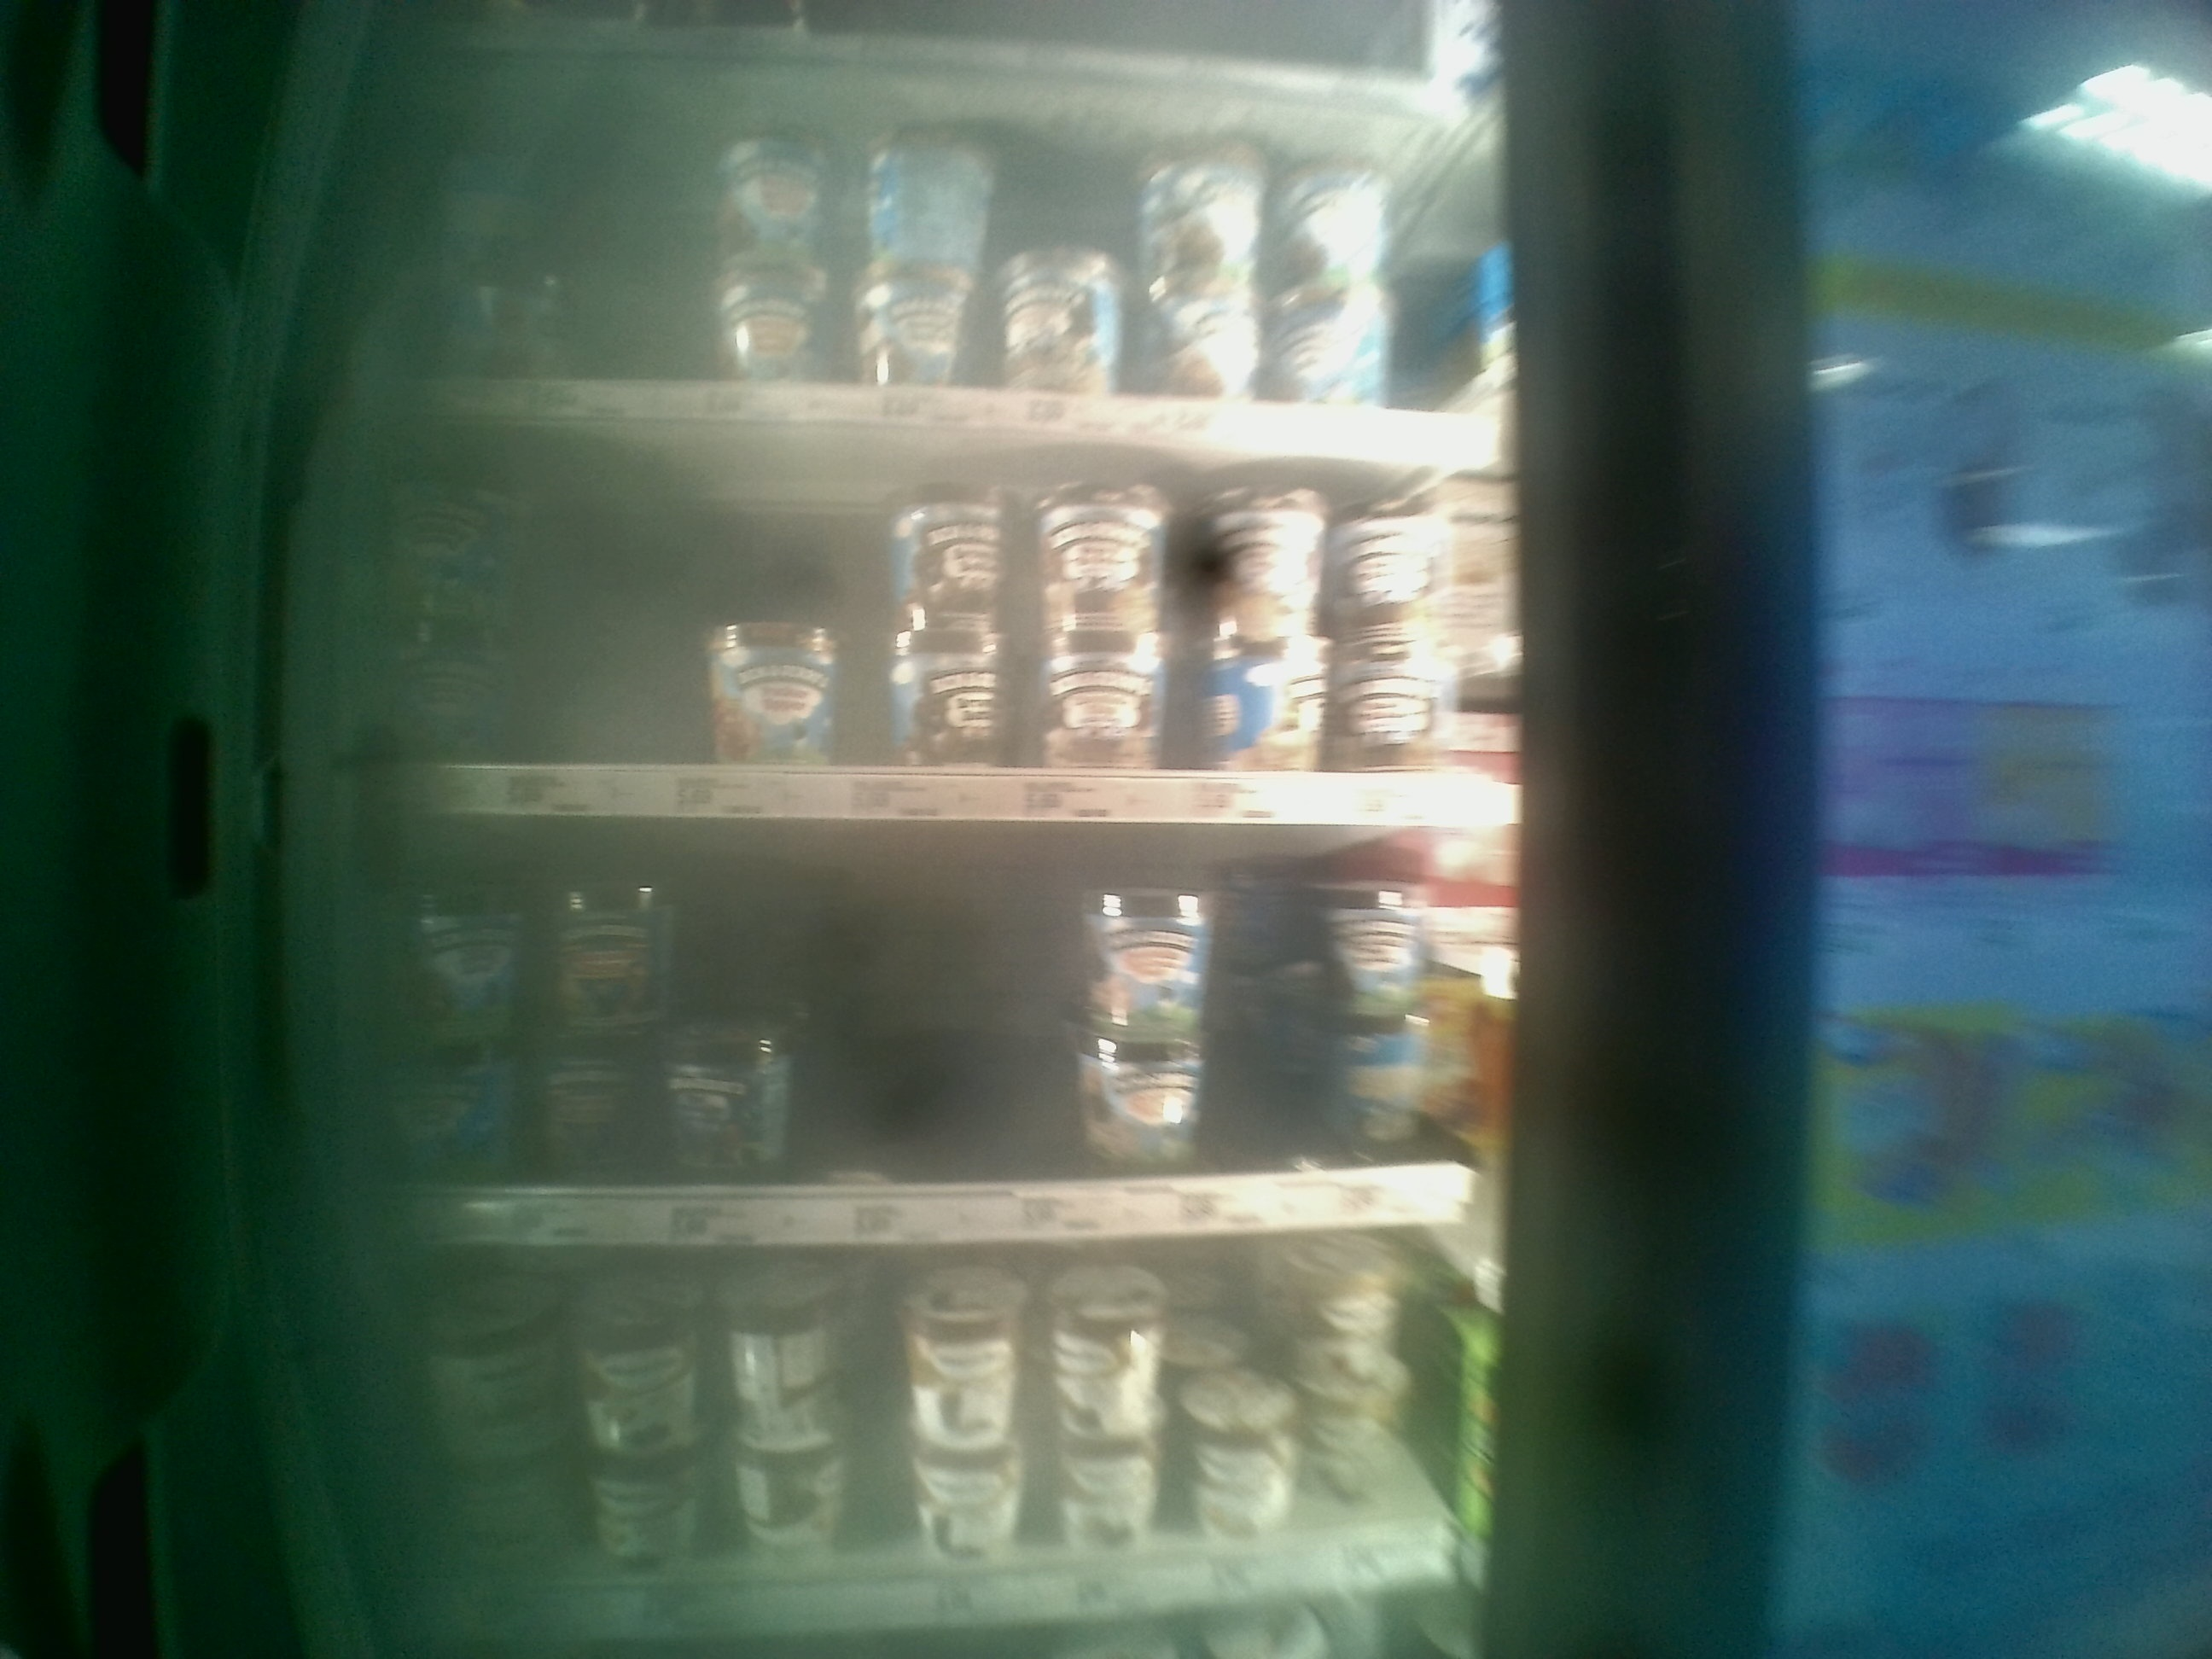shelf: (380, 415, 1529, 823), (381, 823, 1514, 1229)
